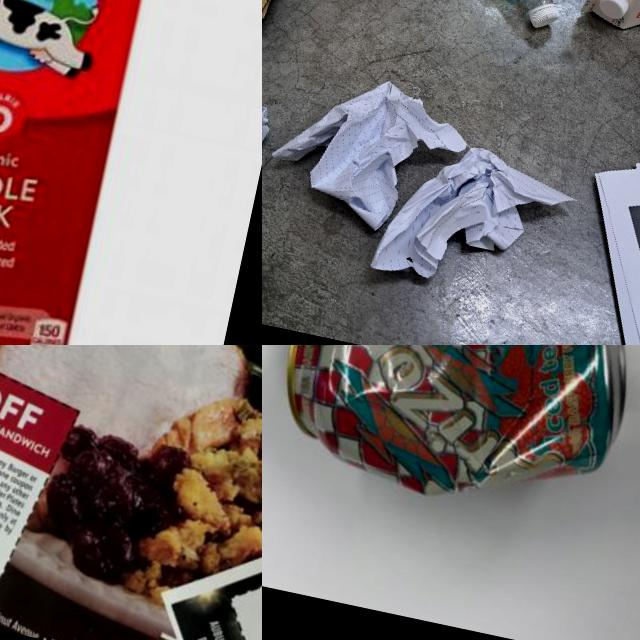caixinha: (0, 0, 191, 345)
lata: (262, 345, 640, 534)
papel: (0, 345, 262, 640), (262, 62, 476, 244), (370, 131, 584, 308), (550, 131, 640, 345), (262, 88, 277, 176)
tampa plástica: (526, 1, 560, 32), (597, 0, 631, 21)
